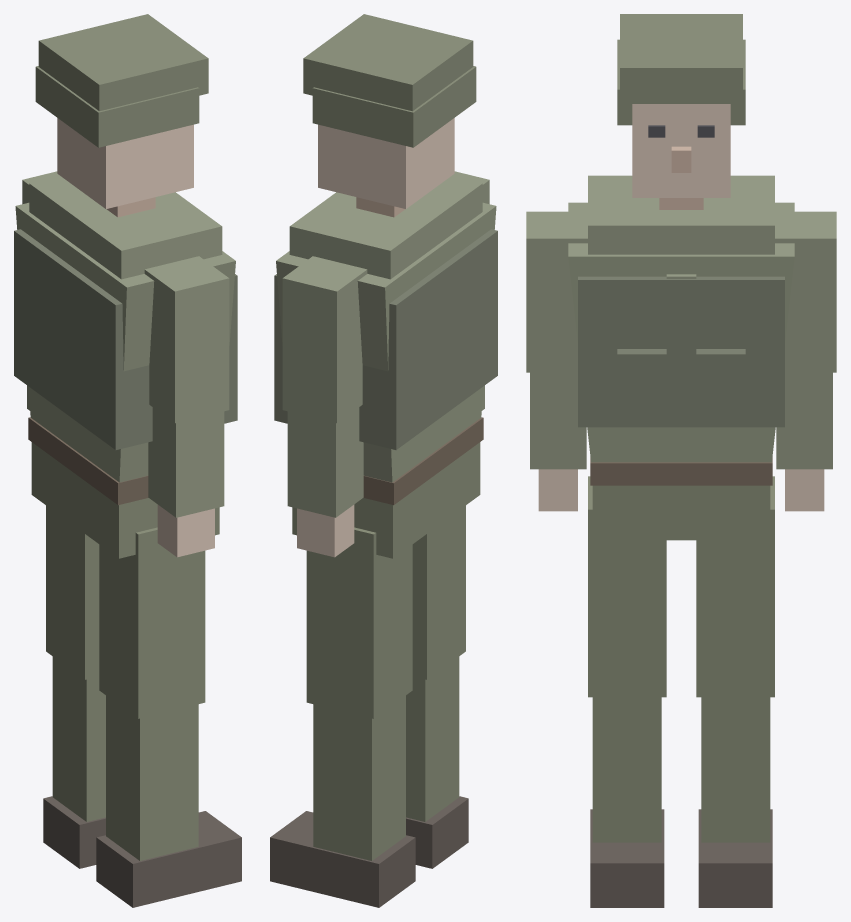
File: char_guard.glb
The picture shows the model from 3 angles, left to right: view 1: azimuth 30°, elevation 25°; view 2: azimuth 150°, elevation 25°; view 3: azimuth 270°, elevation 25°; orthographic projection.
Visible parts, largest first — view 1: torso, leg_r, head, arm_r, leg_l, hips; view 2: torso, leg_l, head, arm_l, leg_r, hips; view 3: torso, leg_l, leg_r, head, arm_l, arm_r, hips.
Boxes of the visible parts, x1,y1,x2,y2 form: torso: (14, 176, 237, 482); leg_r: (96, 527, 241, 907); head: (35, 14, 208, 208); arm_r: (144, 256, 229, 557); leg_l: (43, 505, 105, 868); hips: (28, 417, 219, 558); torso: (274, 176, 497, 482); leg_l: (270, 527, 415, 907); head: (303, 14, 476, 208); arm_l: (282, 256, 367, 557); leg_r: (406, 505, 468, 868); hips: (292, 417, 483, 558); torso: (568, 175, 794, 462); leg_l: (696, 476, 774, 907); leg_r: (588, 476, 666, 907); head: (617, 14, 745, 197); arm_l: (775, 211, 836, 511); arm_r: (526, 211, 587, 511); hips: (590, 457, 772, 540).
Bounding box in the file's own units: 0.315 × 1.86 × 0.63.
